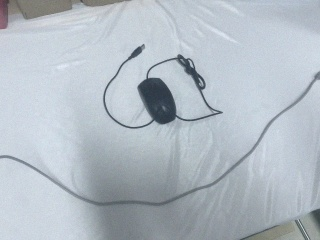box: (9, 1, 74, 20)
mouse: (137, 77, 178, 126)
